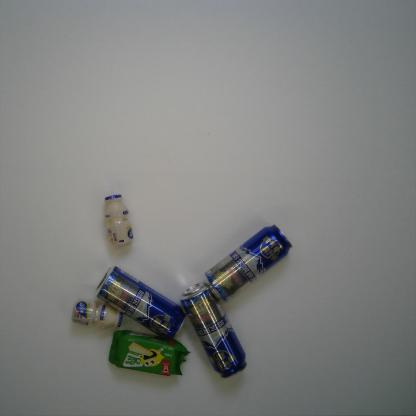Alcohol: (203, 224, 293, 304), (94, 265, 187, 341), (180, 281, 247, 379)
Dessert: (108, 329, 191, 377)
Milk: (71, 298, 123, 330), (104, 194, 134, 247)
